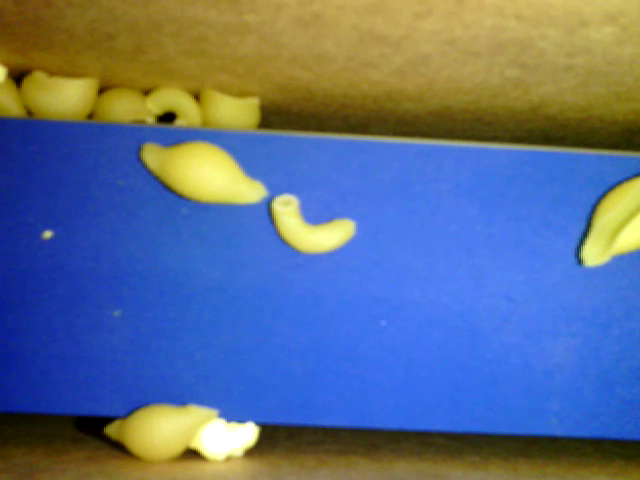elbow: (269, 192, 356, 254), (144, 85, 201, 127)
shell: (138, 139, 267, 205), (104, 402, 219, 461), (579, 174, 639, 269), (18, 71, 98, 120), (197, 85, 263, 128), (94, 86, 155, 123)
